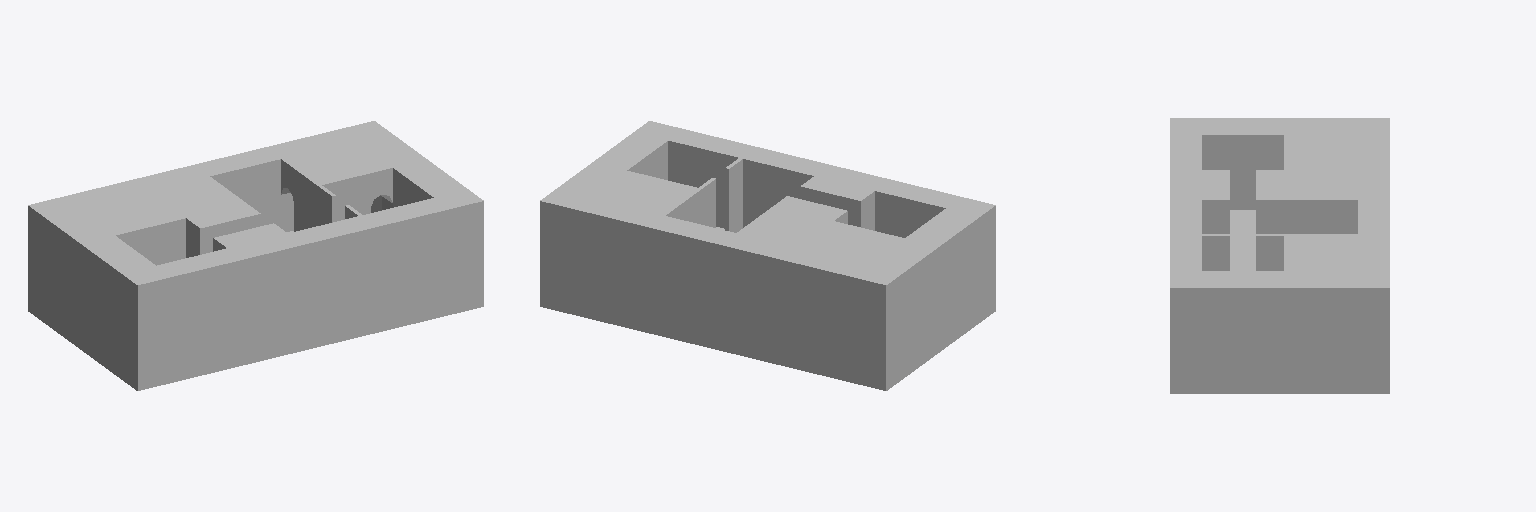
Rendered from BasicTestLevelOpenTop.obj.
3 renders of one model, left to right at view 1: azimuth 30°, elevation 25°; view 2: azimuth 150°, elevation 25°; view 3: azimuth 270°, elevation 25°, orthographic.
Visible parts, largest first — view 1: pCube6; view 2: pCube6; view 3: pCube6.
Part boxes in pixels (x1,y1,x2,y2): pCube6: (28, 121, 483, 390); pCube6: (540, 121, 995, 390); pCube6: (1170, 118, 1389, 393).
Size of the model in its own units: 24.41 by 7.12 by 13.37.